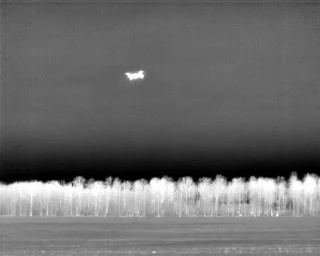DRONE: (122, 66, 150, 86)
